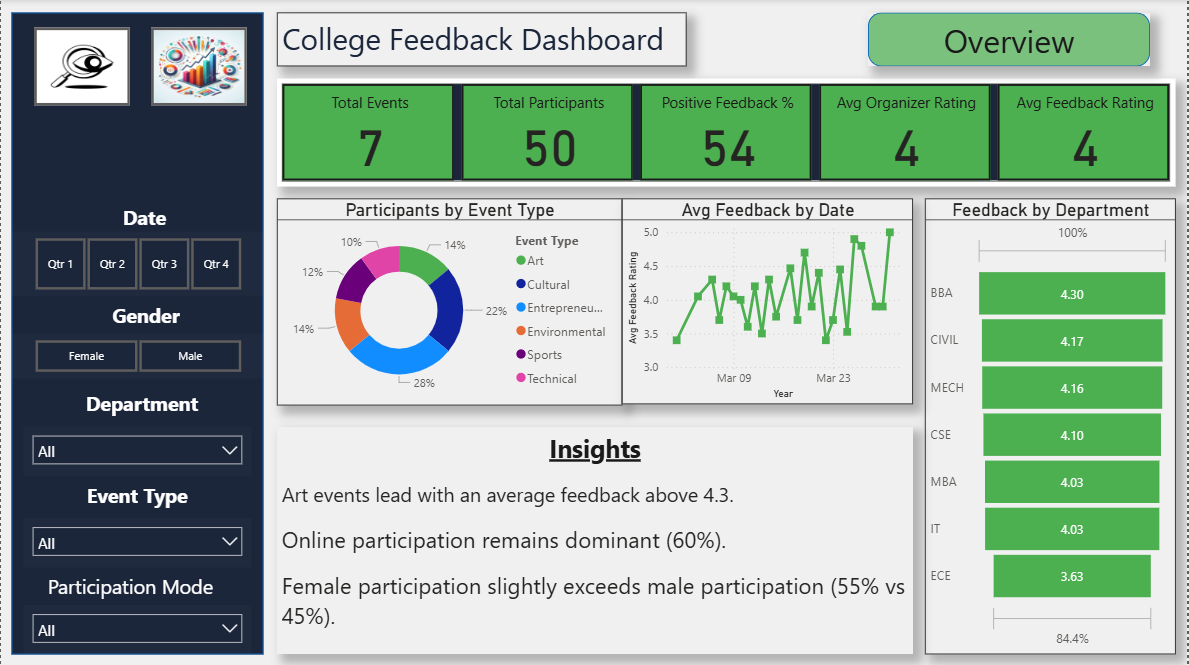

What the dashboard file says about the page in this screenshot:
{"tool":"powerbi","page":{"name":"Page 1","canvas":[1280,720],"ordinal":0},"visuals":[{"type":"shape","box":[11.3,14.6,272,693],"z":0},{"type":"textbox","box":[297.9,14.6,442,58.3],"z":1000},{"type":"actionButton","box":[35.6,30.8,103.6,84.2],"z":2000},{"type":"actionButton","box":[161.9,30.8,103.6,84.2],"z":3000},{"type":"slicer","fields":{"Values":["College_Event_Feedback.Gender"]},"box":[11.3,361.1,272,48.6],"z":6000},{"type":"slicer","fields":{"Values":["College_Event_Feedback.Date.Variation.Date Hierarchy.Quarter"]},"box":[11.3,251,272,69.6],"z":7000},{"type":"textbox","box":[126.3,215.4,69.6,47],"z":8000},{"type":"textbox","box":[115,320.6,93.9,45.3],"z":9000},{"type":"slicer","fields":{"Values":["College_Event_Feedback.Department"]},"box":[24.3,461.5,246.1,53.4],"z":10000},{"type":"textbox","box":[77.7,416.1,149,45.3],"z":11000},{"type":"slicer","fields":{"Values":["College_Event_Feedback.Participation_Mode"]},"box":[24.3,654.2,246.1,53.4],"z":12000},{"type":"slicer","fields":{"Values":["College_Event_Feedback.Event_Type"]},"box":[24.3,560.3,246.1,53.4],"z":13000},{"type":"textbox","box":[87.4,514.9,129.5,45.3],"z":14000},{"type":"textbox","box":[45.3,613.7,202.4,40.5],"z":15000},{"type":"cardVisual","fields":{"Data":["College_Event_Feedback.Total Events","College_Event_Feedback.Total Participants","College_Event_Feedback.Positive Feedback %","College_Event_Feedback.Avg Organizer Rating","College_Event_Feedback.Avg Feedback Rating"]},"box":[297.9,85.8,969.9,116.6],"z":16000},{"type":"shape","box":[935.9,14.6,304.4,58.3],"z":17000},{"type":"donutChart","title":"Participants by Event Type","fields":{"Category":["College_Event_Feedback.Event_Type"],"Y":["College_Event_Feedback.Total Participants"]},"box":[297.9,215.4,372.4,223.5],"z":18000},{"type":"funnel","title":" Feedback by Department","fields":{"Category":["College_Event_Feedback.Department"],"Y":["College_Event_Feedback.Avg Feedback Rating"]},"box":[997.4,215.4,270.4,492.2],"z":19000},{"type":"lineChart","title":"Avg Feedback by Date","fields":{"Y":["College_Event_Feedback.Avg Feedback Rating"],"Category":["College_Event_Feedback.Date.Variation.Date Hierarchy.Year","College_Event_Feedback.Date.Variation.Date Hierarchy.Quarter","College_Event_Feedback.Date.Variation.Date Hierarchy.Month","College_Event_Feedback.Date.Variation.Date Hierarchy.Day"]},"box":[670.4,215.4,314.1,221.8],"z":20000},{"type":"textbox","box":[297.9,461.5,686.6,246.1],"z":21000}]}

Visuals, with their boxes in screenshot pixels (x1, y1, x2, y2), scaled from the page's 1280x720 canvas onto the 1189x665 screenshot:
shape: select_region(10, 13, 263, 654)
textbox: select_region(277, 13, 687, 67)
actionButton: select_region(33, 28, 129, 106)
actionButton: select_region(150, 28, 247, 106)
slicer - College_Event_Feedback.Gender: select_region(10, 334, 263, 378)
slicer - College_Event_Feedback.Date.Variation.Date Hierarchy.Quarter: select_region(10, 232, 263, 296)
textbox: select_region(117, 199, 182, 242)
textbox: select_region(107, 296, 194, 338)
slicer - College_Event_Feedback.Department: select_region(23, 426, 251, 476)
textbox: select_region(72, 384, 211, 426)
slicer - College_Event_Feedback.Participation_Mode: select_region(23, 604, 251, 654)
slicer - College_Event_Feedback.Event_Type: select_region(23, 517, 251, 567)
textbox: select_region(81, 476, 201, 517)
textbox: select_region(42, 567, 230, 604)
cardVisual - College_Event_Feedback.Total Events x College_Event_Feedback.Total Participants: select_region(277, 79, 1178, 187)
shape: select_region(869, 13, 1152, 67)
"Participants by Event Type" donutChart: select_region(277, 199, 623, 405)
" Feedback by Department" funnel: select_region(926, 199, 1178, 654)
"Avg Feedback by Date" lineChart: select_region(623, 199, 915, 404)
textbox: select_region(277, 426, 915, 654)
